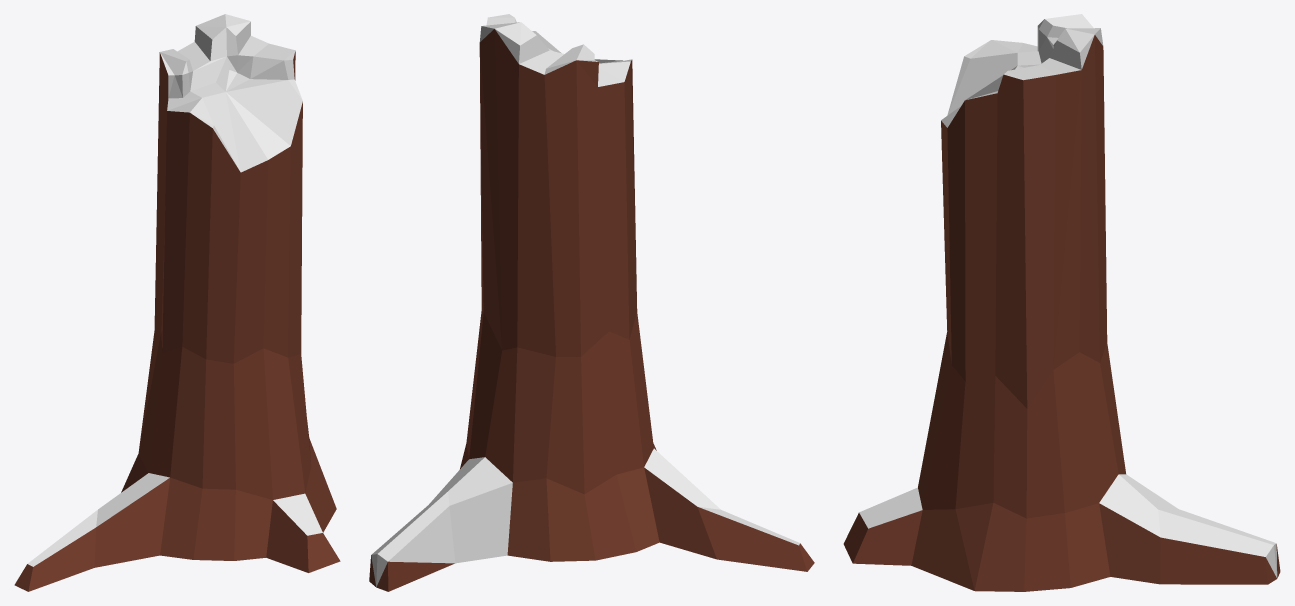
Rendered from pine_trunk_type_8_extra_LOD1.fbx.
The picture shows the model from 3 angles, left to right: view 1: azimuth 30°, elevation 25°; view 2: azimuth 150°, elevation 25°; view 3: azimuth 270°, elevation 25°; orthographic projection. The views are drawn at different scales.
Parts seen in each view (by area): view 1: pt_type_8.001; view 2: pt_type_8.001; view 3: pt_type_8.001.
Boxes of the visible parts, bbox=[...] form: pt_type_8.001: bbox=[14, 14, 340, 591]; pt_type_8.001: bbox=[369, 14, 814, 591]; pt_type_8.001: bbox=[843, 14, 1280, 591].
Bounding box in the file's own units: 264 × 388 × 287.
